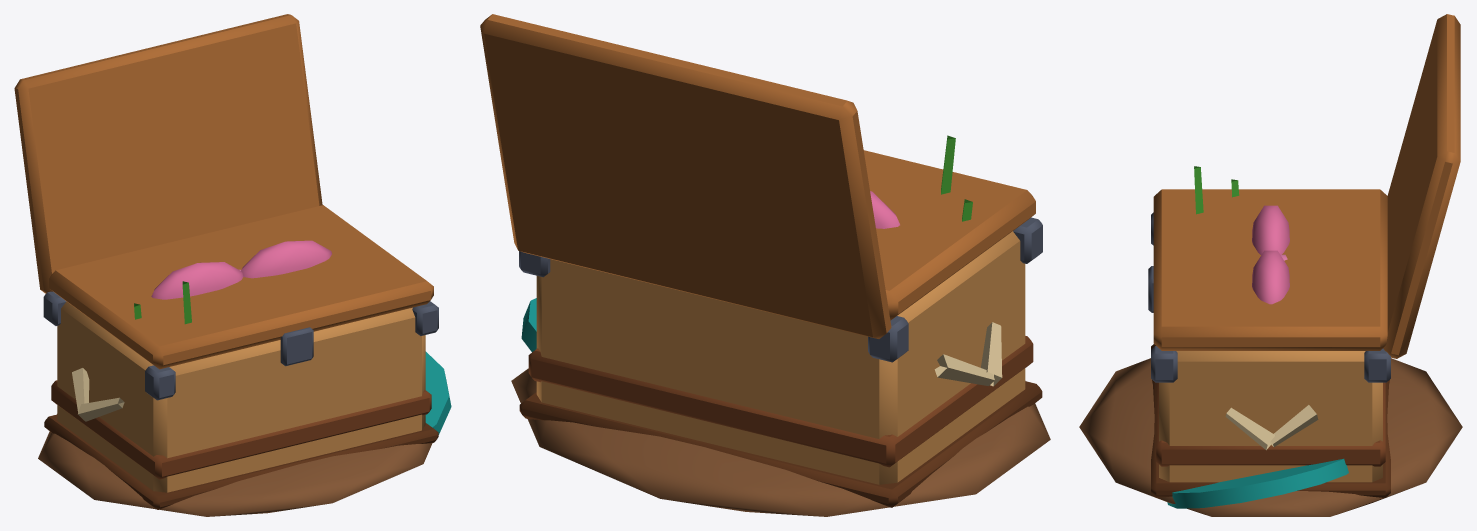
The model's file is exploration-props.glb.
3 views of the same model, side by side, from view 1: azimuth 30°, elevation 25°; view 2: azimuth 150°, elevation 25°; view 3: azimuth 270°, elevation 25° (orthographic). The views are drawn at different scales.
Parts seen in each view (by area): view 1: trail_porch_box_open, trail_porch_box_closed, trail_pond_cache_closed, trail_picnic_ribbon, trail_pond_cache_open; view 2: trail_porch_box_open, trail_porch_box_closed, trail_pond_cache_closed; view 3: trail_porch_box_closed, trail_porch_box_open, trail_pond_cache_closed, trail_pond_cache_open, trail_picnic_ribbon.
Boxes of the visible parts, x1=… form: trail_porch_box_open: x1=14, y1=14, x2=438, y2=506; trail_porch_box_closed: x1=43, y1=205, x2=438, y2=509; trail_pond_cache_closed: x1=38, y1=281, x2=432, y2=516; trail_picnic_ribbon: x1=151, y1=240, x2=331, y2=299; trail_pond_cache_open: x1=425, y1=351, x2=451, y2=434; trail_porch_box_open: x1=480, y1=14, x2=1042, y2=503; trail_porch_box_closed: x1=519, y1=150, x2=1042, y2=507; trail_pond_cache_closed: x1=511, y1=135, x2=1050, y2=516; trail_porch_box_closed: x1=1148, y1=189, x2=1390, y2=497; trail_porch_box_open: x1=1151, y1=14, x2=1460, y2=494; trail_pond_cache_closed: x1=1079, y1=166, x2=1462, y2=516; trail_pond_cache_open: x1=1167, y1=458, x2=1348, y2=508; trail_picnic_ribbon: x1=1252, y1=205, x2=1289, y2=304.
Bounding box in the file's own units: 0.8338 × 0.775 × 0.72.
